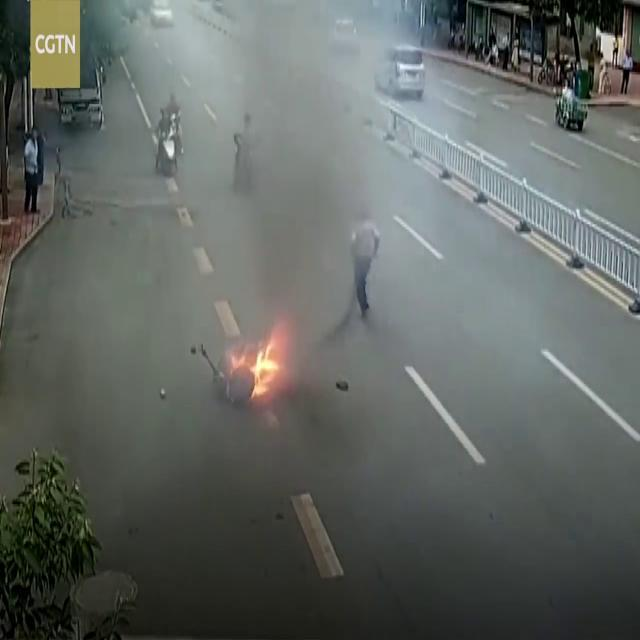Fire: (233, 320, 282, 396)
Smoke: (110, 0, 412, 514)
